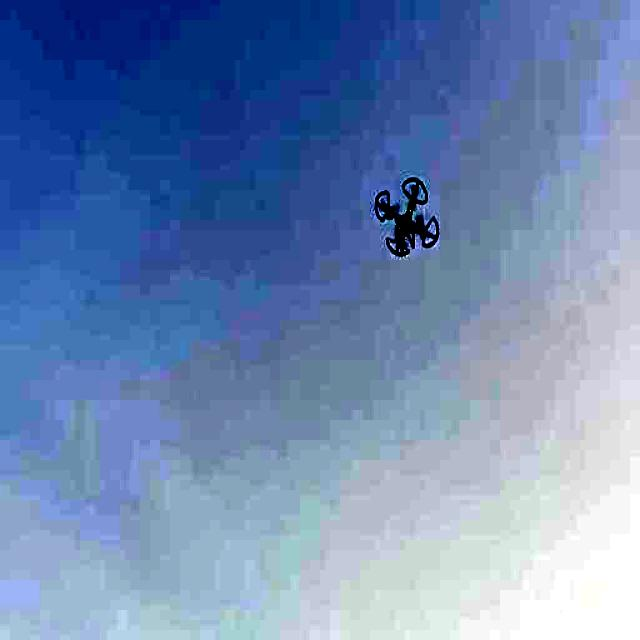bird: (374, 160, 450, 270)
